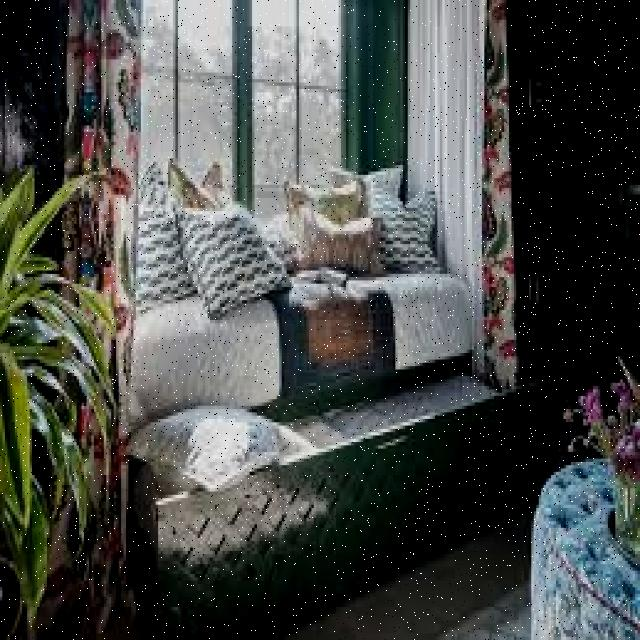bed: (130, 166, 472, 428)
